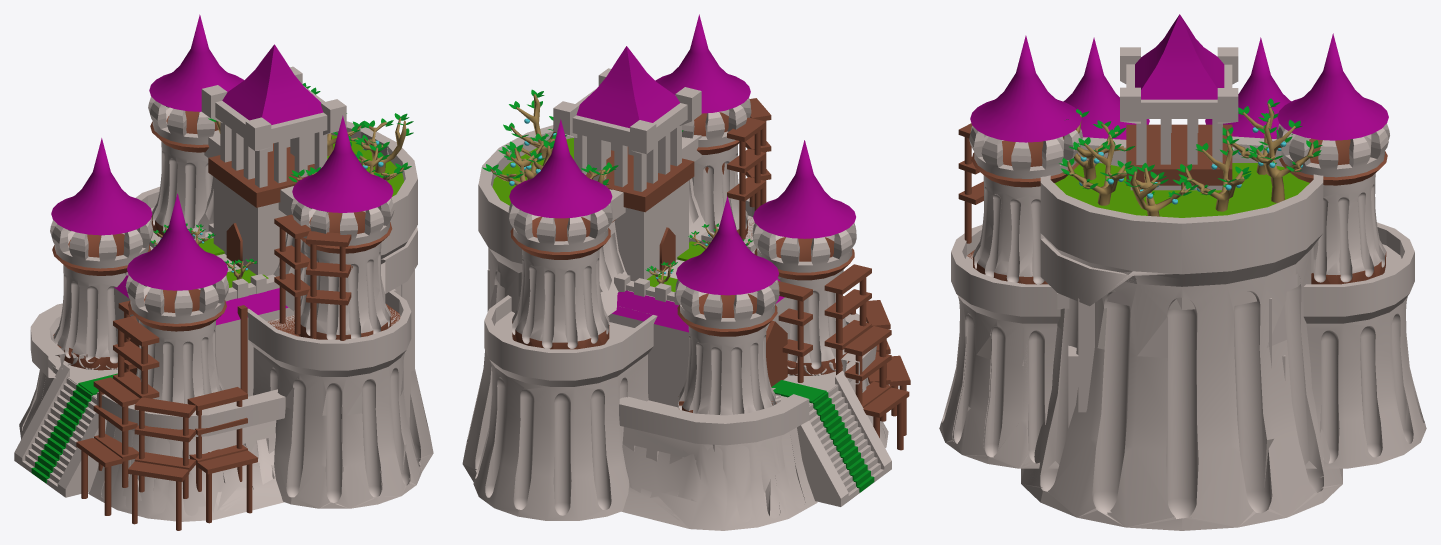
File: ElfHallTier3.fbx
3 views of the same model, side by side, from view 1: azimuth 30°, elevation 25°; view 2: azimuth 150°, elevation 25°; view 3: azimuth 270°, elevation 25° (orthographic). The views are drawn at different scales.
Visible parts, largest first — view 1: ElfHallTier3, ElfHallTier3Build; view 2: ElfHallTier3, ElfHallTier3Build; view 3: ElfHallTier3, ElfHallTier3Build.
Boxes of the visible parts, <box> form: ElfHallTier3: <box>14,14,433,521</box>; ElfHallTier3Build: <box>14,49,432,530</box>; ElfHallTier3: <box>462,14,891,530</box>; ElfHallTier3Build: <box>467,47,910,530</box>; ElfHallTier3: <box>942,14,1426,530</box>; ElfHallTier3Build: <box>939,18,1424,526</box>.
Size of the model in its own units: 5934 by 6090 by 6113.
